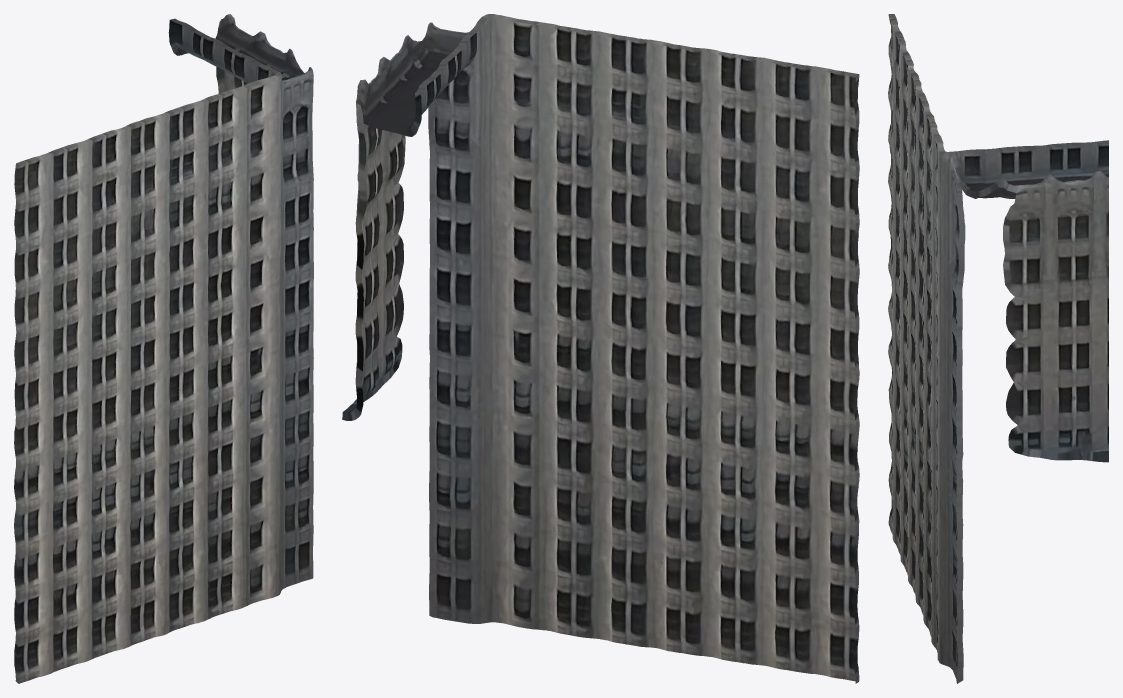
Rendered from z20-167764-405235-h1-yup-uvflip-v3-world.glb.
3 views of the same model, side by side, from view 1: azimuth 30°, elevation 25°; view 2: azimuth 150°, elevation 25°; view 3: azimuth 270°, elevation 25° (orthographic). The views are drawn at different scales.
Size of the model in its own units: 30.2 by 45.4 by 17.76.
1 material, 1 textured.
